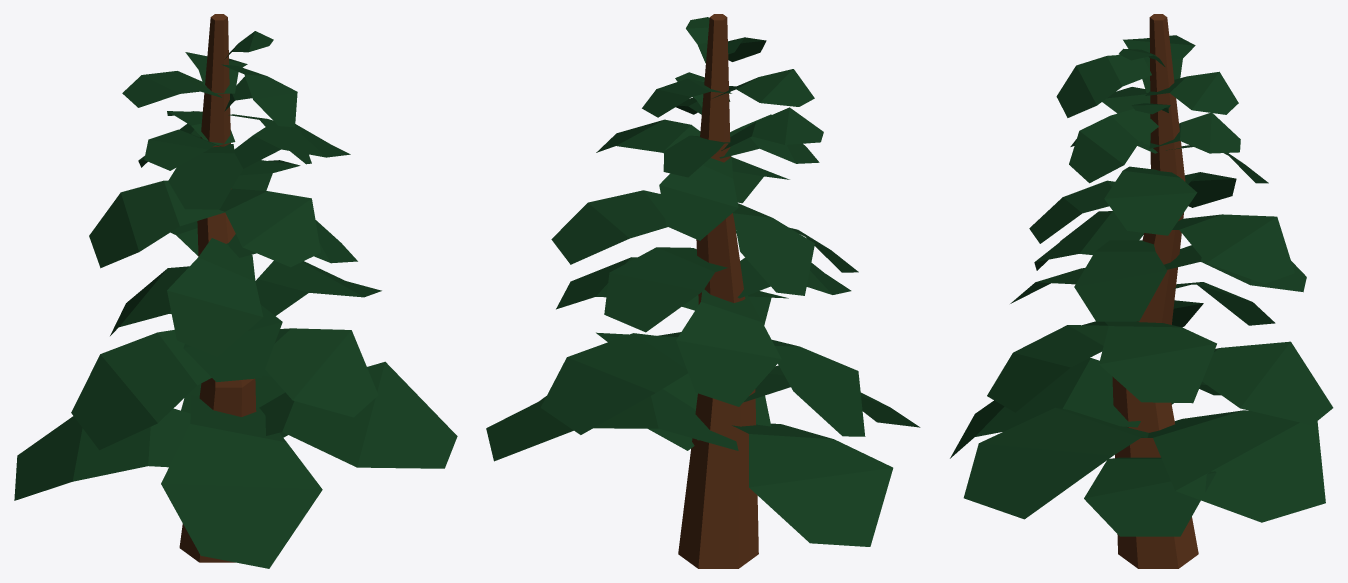
The model's file is Tree3.fbx.
3 renders of one model, left to right at view 1: azimuth 30°, elevation 25°; view 2: azimuth 150°, elevation 25°; view 3: azimuth 270°, elevation 25°, orthographic.
Visible parts, largest first — view 1: Plane.002, Plane.010, Plane.004, Plane.001, Plane.013, Plane.005, Cylinder.006, Plane.017, Plane.016, Plane.021, Plane.020, Plane.023 (+11 smaller); view 2: Cylinder.006, Plane.001, Plane.003, Plane.022, Plane.012, Plane.009, Plane.004, Plane.015, Plane.016, Plane.019, Plane.024, Plane.006 (+11 smaller); view 3: Plane.009, Plane.010, Cylinder.006, Plane.021, Plane.003, Plane, Plane.015, Plane.014, Plane.002, Plane.005, Plane.018, Plane.025 (+12 smaller).
Part boxes in pixels (box(x1,y1,x2,y2)): Plane.002: box(161, 395, 322, 568); Plane.010: box(259, 361, 457, 468); Plane.004: box(71, 330, 211, 450); Plane.001: box(14, 408, 190, 500); Plane.013: box(167, 238, 263, 357); Plane.005: box(265, 328, 378, 417); Cylinder.006: box(179, 14, 256, 562); Plane.017: box(219, 188, 320, 267); Plane.016: box(89, 180, 224, 268); Plane.021: box(255, 260, 381, 315); Plane.020: box(168, 144, 242, 209); Plane.023: box(183, 305, 282, 382); Cylinder.006: box(678, 14, 758, 568); Plane.001: box(732, 423, 893, 546); Plane.003: box(541, 333, 687, 434); Plane.022: box(676, 289, 781, 406); Plane.012: box(604, 247, 727, 332); Plane.009: box(486, 389, 738, 461); Plane.004: box(772, 340, 865, 436); Plane.015: box(551, 190, 667, 264); Plane.016: box(733, 203, 814, 295); Plane.019: box(659, 156, 738, 240); Plane.024: box(721, 107, 823, 150); Plane.006: box(712, 69, 814, 106); Plane.009: box(1141, 410, 1325, 522); Plane.010: box(963, 407, 1148, 519); Cylinder.006: box(1112, 14, 1198, 568); Plane.021: box(1099, 321, 1216, 403); Plane.003: box(1202, 341, 1333, 425); Plane: box(1084, 457, 1216, 536); Plane.015: box(1172, 214, 1294, 283); Plane.014: box(1074, 240, 1167, 321); Plane.002: box(950, 358, 1140, 458); Plane.005: box(987, 325, 1108, 412); Plane.018: box(1104, 166, 1197, 235); Plane.025: box(1069, 109, 1158, 183).
Size of the model in its own units: 414 by 587 by 381.
